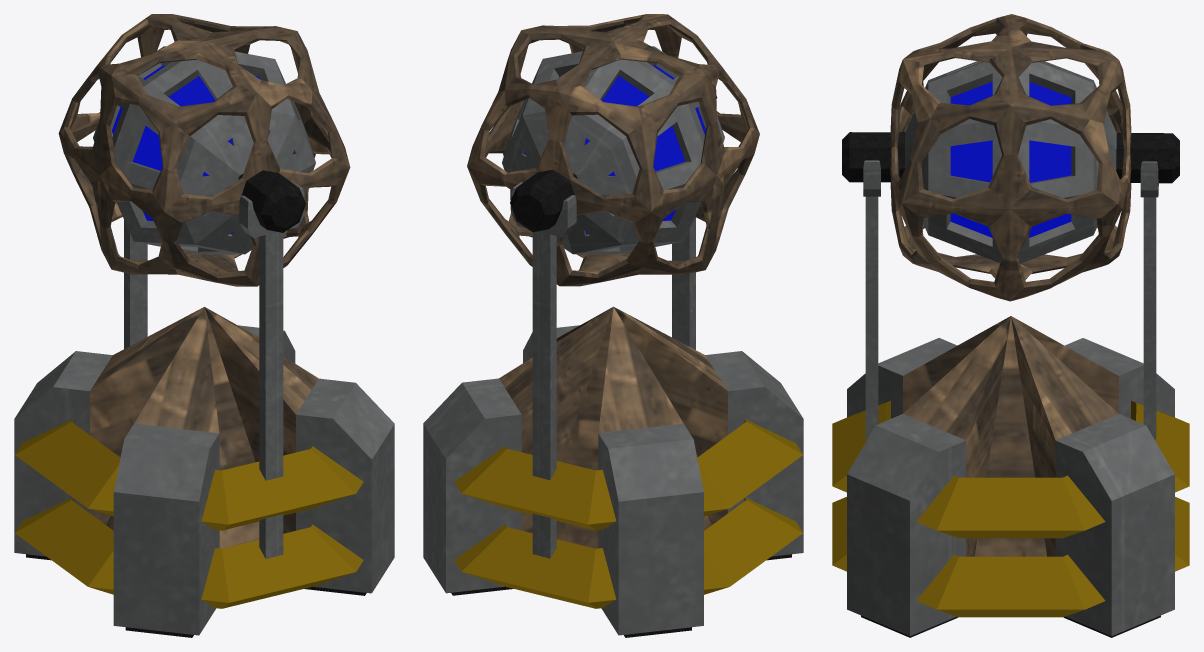
Rendered from Artefakt.fbx.
3 views of the same model, side by side, from view 1: azimuth 30°, elevation 25°; view 2: azimuth 150°, elevation 25°; view 3: azimuth 270°, elevation 25° (orthographic).
Parts seen in each view (by area): view 1: Cone, Cube.001, Sphere.001, Cube.002, Cylinder.002; view 2: Cone, Cube.001, Sphere.001, Cube.002, Cylinder.002; view 3: Cone, Cube.001, Sphere.001, Cube.002, Cylinder.002.
Part boxes in pixels (x1,y1,x2,y2): Cone: (14,307,394,637); Cube.001: (58,14,350,286); Sphere.001: (93,46,315,254); Cube.002: (124,182,304,558); Cylinder.002: (238,170,305,232); Cone: (423,306,803,637); Cube.001: (467,14,759,286); Sphere.001: (502,46,724,254); Cube.002: (511,182,695,558); Cylinder.002: (510,95,717,232); Cone: (832,316,1189,637); Cube.001: (890,14,1131,301); Sphere.001: (905,61,1116,263); Cube.002: (863,160,1158,439); Cylinder.002: (842,132,1179,183).
Bounding box in the file's own units: 306 × 498 × 306.
